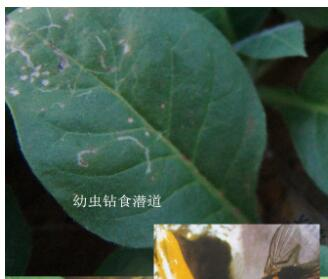liriomyza: (3, 12, 52, 98), (117, 134, 151, 174), (75, 145, 99, 168), (115, 34, 131, 54), (61, 9, 76, 20)
